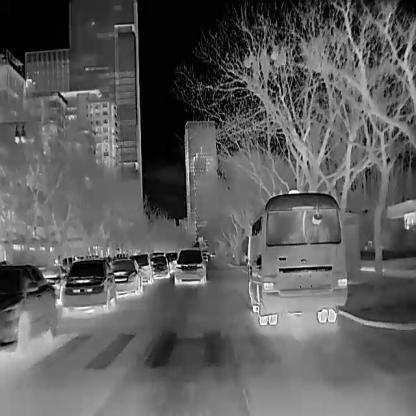car: (246, 188, 346, 326), (0, 263, 58, 352), (61, 258, 115, 314), (174, 249, 206, 285), (111, 257, 141, 295), (131, 252, 152, 284), (152, 254, 169, 277)
